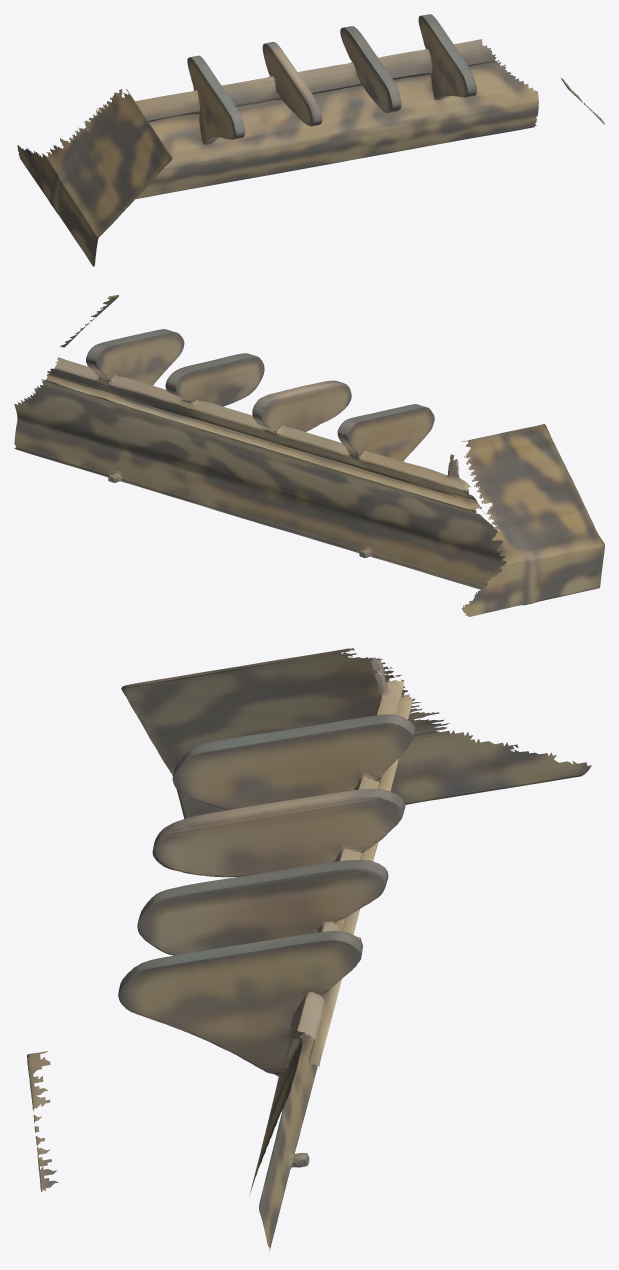
Rendered from guard-center.glb.
3 views of the same model, one above another, from view 1: azimuth 30°, elevation 25°; view 2: azimuth 150°, elevation 25°; view 3: azimuth 270°, elevation 25° (orthographic). The views are drawn at different scales.
Visible parts, largest first — view 1: geometry_0; view 2: geometry_0; view 3: geometry_0.
Part boxes in pixels (x1,y1,x2,y2): geometry_0: (17,14,604,266); geometry_0: (14,295,604,616); geometry_0: (27,648,591,1250).
Bounding box in the file's own units: 2.72 × 0.739 × 1.4.
